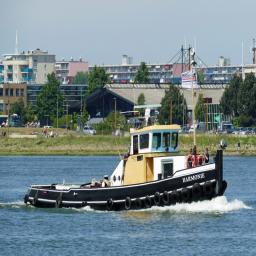tugboat: (24, 103, 231, 217)
